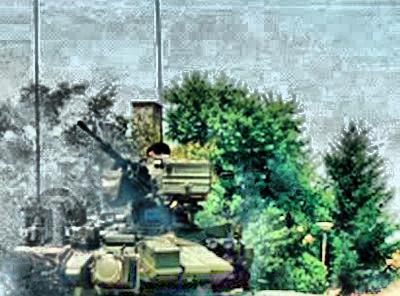tanks: (1, 131, 325, 296)
